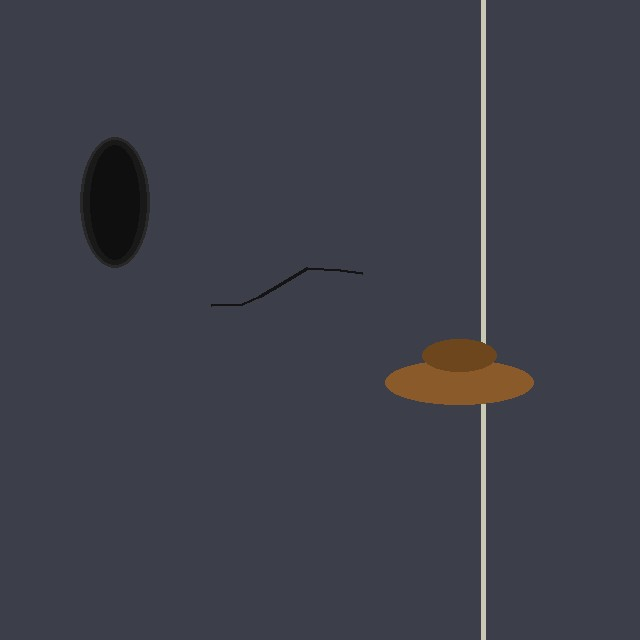animal: (385, 339, 533, 404)
crack: (211, 244, 356, 367)
pothole: (80, 137, 149, 267)
